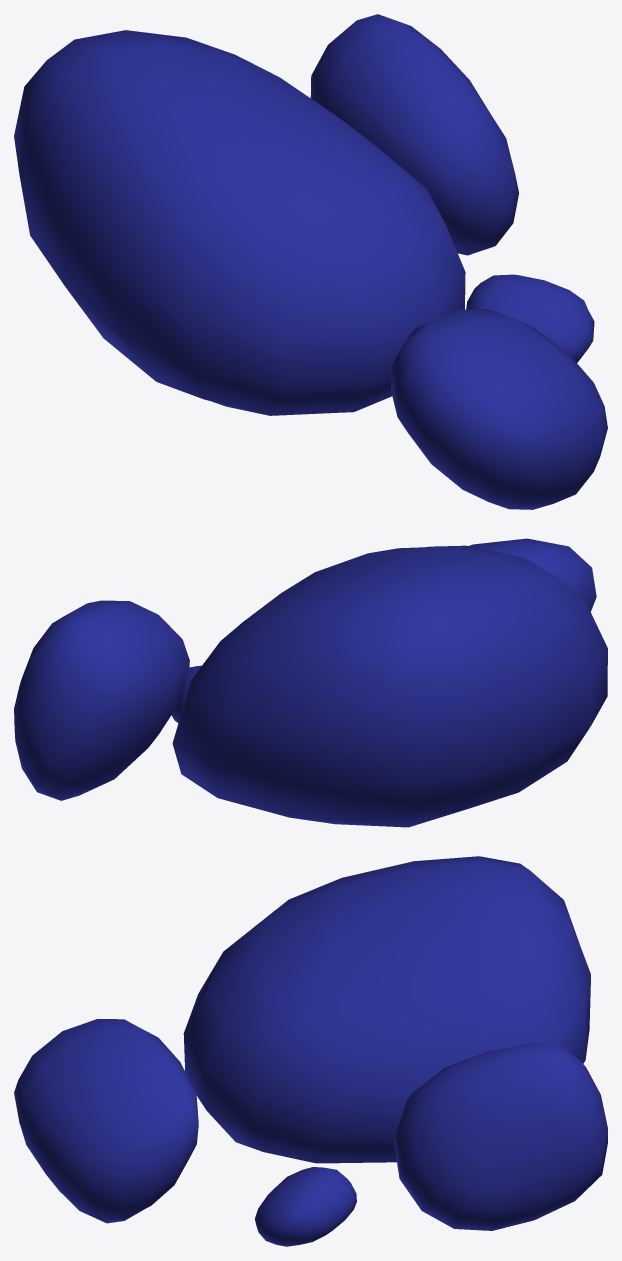
File: rock.glb
3 renders of one model, top to bottom at view 1: azimuth 30°, elevation 25°; view 2: azimuth 150°, elevation 25°; view 3: azimuth 270°, elevation 25°, orthographic. The views are drawn at different scales.
Parts seen in each view (by area): view 1: Rock; view 2: Rock; view 3: Rock.
Part boxes in pixels (bbox=[...]): Rock: bbox=[14, 14, 607, 509]; Rock: bbox=[14, 538, 607, 827]; Rock: bbox=[14, 856, 607, 1246].
Bounding box in the file's own units: 2.72 × 1.77 × 3.51.
